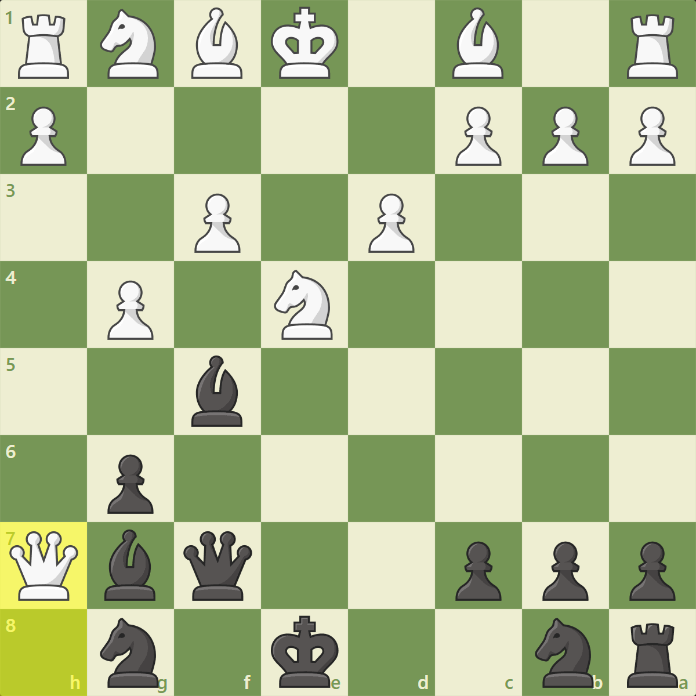B: (449, 5, 506, 83), (188, 5, 245, 81)
K: (269, 4, 341, 82)
N: (96, 7, 161, 81), (274, 269, 334, 342)
P: (102, 278, 155, 344), (190, 191, 243, 257), (365, 190, 418, 256), (449, 103, 502, 169), (538, 104, 591, 170), (624, 104, 677, 170), (15, 104, 68, 170)
Q: (5, 528, 81, 604)
R: (14, 11, 73, 84), (623, 10, 681, 82)
b: (102, 526, 159, 606), (188, 353, 245, 430)
k: (268, 614, 342, 691)
n: (96, 616, 163, 692), (534, 615, 596, 692)
p: (451, 540, 504, 605), (538, 539, 591, 604), (625, 540, 678, 605), (102, 453, 155, 518)
q: (181, 529, 256, 604)
r: (625, 620, 681, 692)
